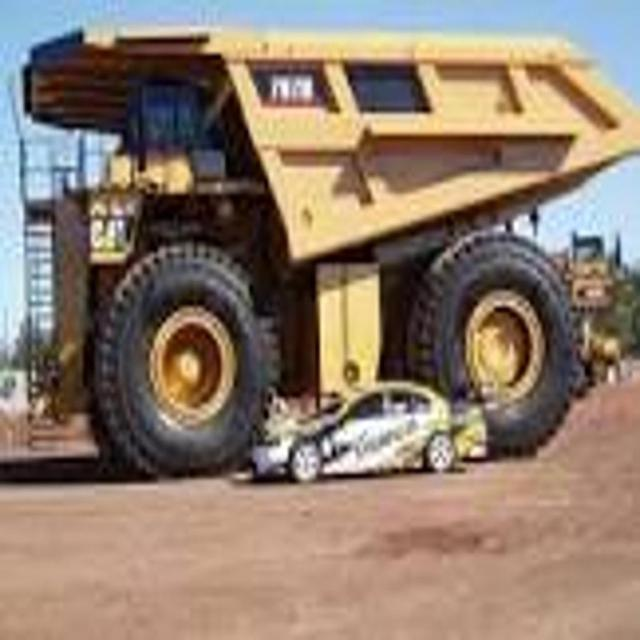dump_truck: (13, 10, 640, 480)
